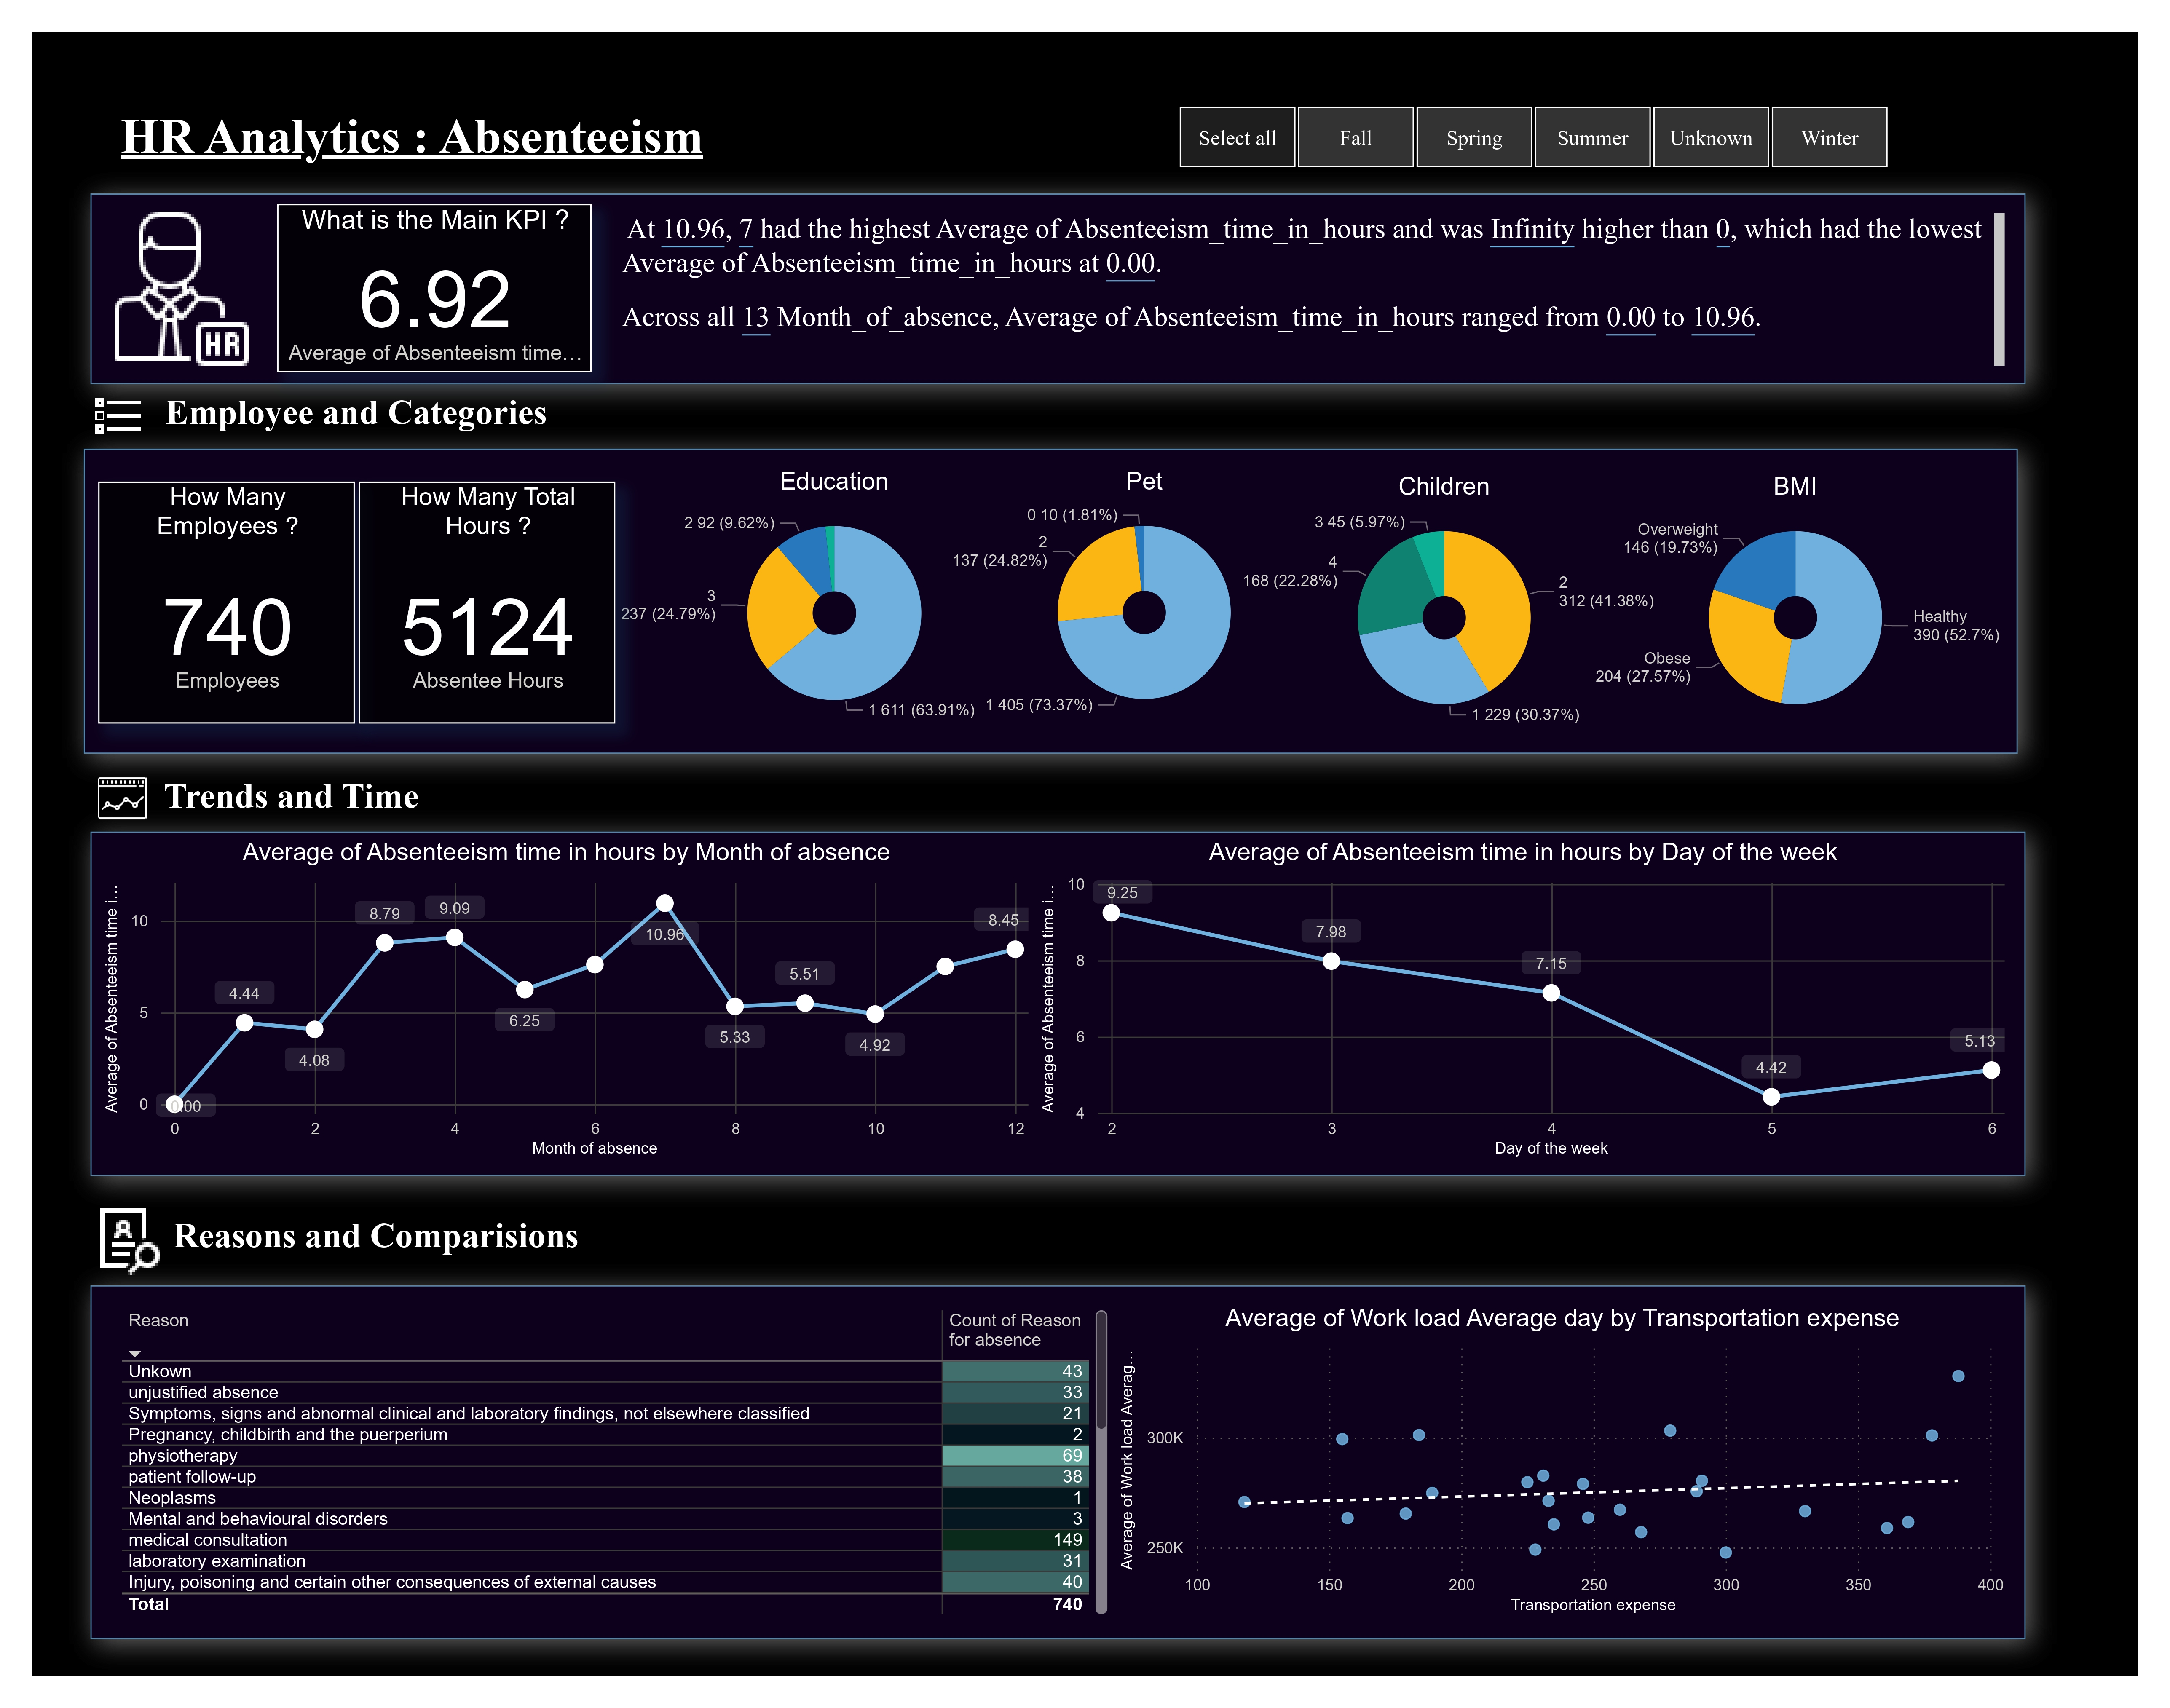

Layout of this report page (visuals, bound fields, positions):
{"tool":"powerbi","page":{"name":"Page 1","canvas":[1600,1250],"ordinal":0},"visuals":[{"type":"shape","box":[19.5,928.5,1520.3,318.9],"z":0},{"type":"shape","box":[19.5,582.9,1520.3,311.8],"z":1000},{"type":"shape","box":[14.2,292.4,1520.3,281.7],"z":2000},{"type":"shape","box":[19,98.3,1520.7,194.8],"z":3000},{"type":"donutChart","title":"BMI","fields":{"Category":["Query1.BMI_Category"],"Y":["CountNonNull(Query1.BMI_Category)"]},"box":[1139.8,334.5,400,200],"z":4000},{"type":"card","title":"What is the Main KPI ?","fields":{"Values":["Avg(Query1.Absenteeism_time_in_hours)"]},"box":[186,131.1,239.2,127.6],"z":5000},{"type":"donutChart","title":"Education","fields":{"Category":["Query1.Education"],"Y":["Sum(Query1.Education)"]},"box":[409.3,331.3,400.4,200.2],"z":6000},{"type":"donutChart","title":"Pet ","fields":{"Category":["Query1.son"],"Y":["Sum(Query1.Pet)"]},"box":[644.2,331,401.8,200],"z":7000},{"type":"donutChart","title":"Children","fields":{"Category":["Query1.son"],"Y":["Sum(Query1.son)"]},"box":[872.6,334.5,400,200],"z":8000},{"type":"card","title":"How Many Employees ?","fields":{"Values":["CountNonNull(Query1.ID)"]},"box":[49.6,342,194.9,184.3],"z":9000},{"type":"card","title":"How Many Total Hours ?","fields":{"Values":["Sum(Query1.Absenteeism_time_in_hours)"]},"box":[248.1,342,194.9,184.3],"z":10000},{"type":"lineChart","title":"Average of Absenteeism time in hours by Month of absence","fields":{"Y":["Avg(Query1.Absenteeism_time_in_hours)"],"Category":["Query1.Month_of_absence"]},"box":[49.6,613.1,712.3,248.1],"z":11000},{"type":"lineChart","title":"Average of Absenteeism time in hours by Day of the week","fields":{"Y":["Avg(Query1.Absenteeism_time_in_hours)"],"Category":["Query1.Day_of_the_week"]},"box":[761.9,613.1,742.4,248.1],"z":12000},{"type":"tableEx","fields":{"Values":["Query1.Reason","CountNonNull(Query1.Reason)"]},"box":[62,967.4,760.1,241],"z":13000},{"type":"scatterChart","title":"Average of Work load Average day by Transportation expense","fields":{"Y":["Avg(Query1.Work_load_Average_day)"],"X":["Query1.Transportation_expense"]},"box":[822,967,682,241],"z":14000},{"type":"slicer","fields":{"Values":["Query1.Season_Names"]},"box":[846,49.6,587.6,60.2],"z":15000},{"type":"image","box":[42,263,46,58],"z":16000},{"type":"textbox","box":[95.7,269.3,357.9,44.3],"z":17000},{"type":"image","box":[42,551,53,62],"z":18000},{"type":"image","box":[35,884,67,66],"z":19000},{"type":"textbox","box":[102,895,358,44],"z":20000},{"type":"textbox","box":[62,53.2,506.8,56.7],"z":21000},{"type":"textbox","box":[95,561,225,42],"z":22000},{"type":"image","box":[50,127,127,136],"z":23000},{"type":"textbox","box":[443,132.9,1061.4,127.6],"z":24000}]}

Visuals, with their boxes in screenshot pixels (x1, y1, x2, y2):
shape: box=[57, 1253, 2059, 1673]
shape: box=[57, 799, 2059, 1209]
shape: box=[50, 416, 2052, 787]
shape: box=[56, 161, 2059, 417]
"BMI" donutChart: box=[1532, 472, 2059, 735]
"What is the Main KPI ?" card: box=[276, 204, 592, 372]
"Education" donutChart: box=[571, 468, 1098, 731]
"Pet " donutChart: box=[880, 467, 1409, 730]
"Children" donutChart: box=[1181, 472, 1707, 735]
"How Many Employees ?" card: box=[97, 482, 354, 724]
"How Many Total Hours ?" card: box=[358, 482, 615, 724]
"Average of Absenteeism time in hours by Month of absence" lineChart: box=[97, 838, 1035, 1165]
"Average of Absenteeism time in hours by Day of the week" lineChart: box=[1035, 838, 2012, 1165]
tableEx - Query1.Reason x CountNonNull(Query1.Reason): box=[113, 1304, 1114, 1622]
"Average of Work load Average day by Transportation expense" scatterChart: box=[1114, 1304, 2012, 1621]
slicer - Query1.Season_Names: box=[1146, 97, 1919, 176]
image: box=[87, 377, 147, 454]
textbox: box=[158, 386, 629, 444]
image: box=[87, 757, 157, 838]
image: box=[78, 1195, 166, 1282]
textbox: box=[166, 1209, 637, 1267]
textbox: box=[113, 102, 780, 176]
textbox: box=[157, 770, 453, 825]
image: box=[97, 199, 265, 377]
textbox: box=[615, 206, 2012, 375]
